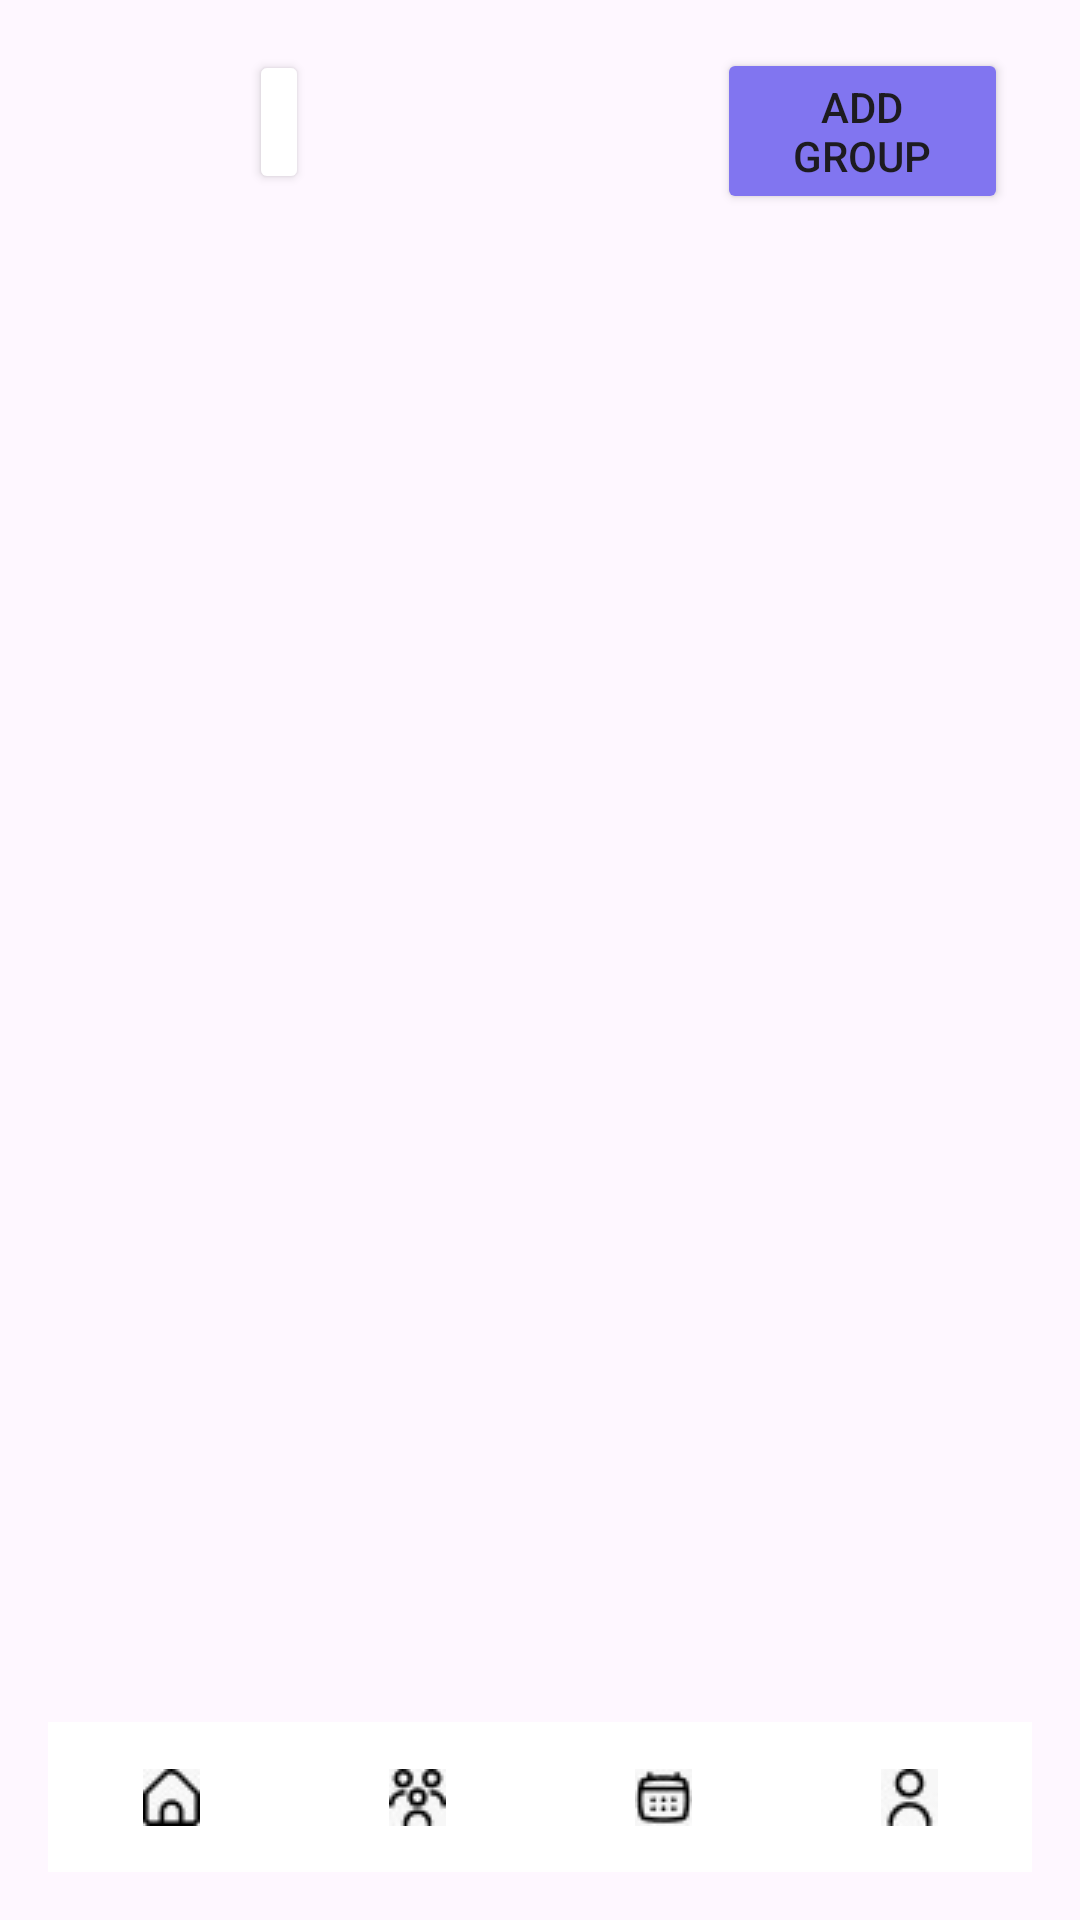

Where to tap for icons on this 1080 × 1920 app screen, as (x=x, y=y):
calendar state: (x=663, y=1797)
groups state: (x=417, y=1797)
home state: (x=171, y=1797)
profile state: (x=909, y=1797)
